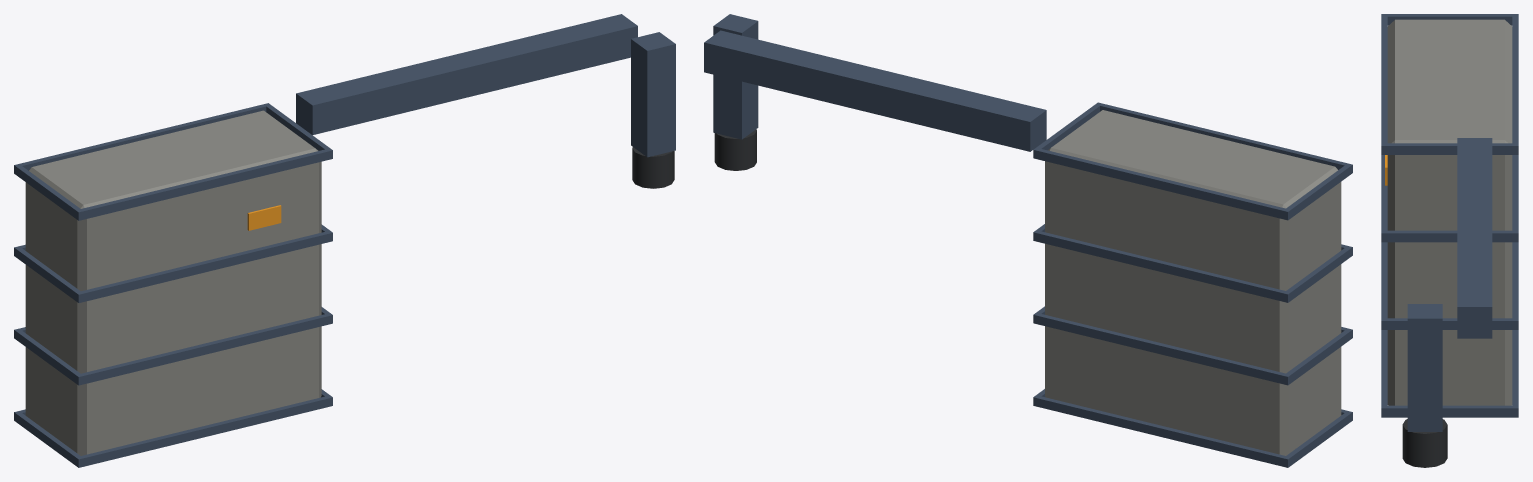
Rendered from ak1_charger.obj.
The picture shows the model from 3 angles, left to right: view 1: azimuth 30°, elevation 25°; view 2: azimuth 150°, elevation 25°; view 3: azimuth 270°, elevation 25°; orthographic projection. The views are drawn at different scales.
Visible parts, largest first — view 1: ak1_charger; view 2: ak1_charger; view 3: ak1_charger.
Boxes of the visible parts, box(x1,y1,x2,y2) form: ak1_charger: box(14, 14, 675, 467); ak1_charger: box(704, 14, 1352, 467); ak1_charger: box(1381, 14, 1518, 467).
Size of the model in its own units: 3.02 by 1.27 by 0.55.
